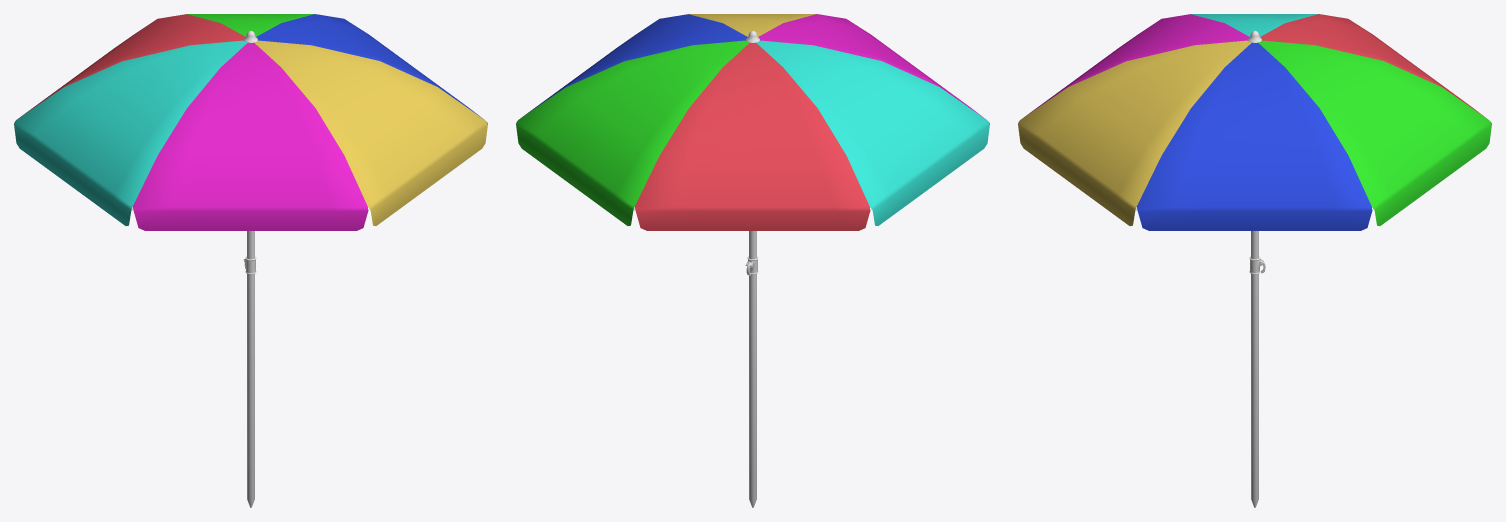
The model's file is umbrella.fbx.
3 views of the same model, side by side, from view 1: azimuth 30°, elevation 25°; view 2: azimuth 150°, elevation 25°; view 3: azimuth 270°, elevation 25° (orthographic).
Parts seen in each view (by area): view 1: Sphere.002, Cylinder, Cylinder.001; view 2: Sphere.002, Cylinder, Cylinder.001; view 3: Sphere.002, Cylinder, Cylinder.001.
Part boxes in pixels (x1,y1,x2,y2): Sphere.002: (14,14,487,230); Cylinder: (247,274,254,507); Cylinder.001: (244,30,257,274); Sphere.002: (516,14,989,230); Cylinder: (749,274,756,507); Cylinder.001: (745,30,759,275); Sphere.002: (1018,14,1491,230); Cylinder: (1251,274,1258,507); Cylinder.001: (1248,30,1265,274).
Bounding box in the file's own units: 254 × 325 × 292.
